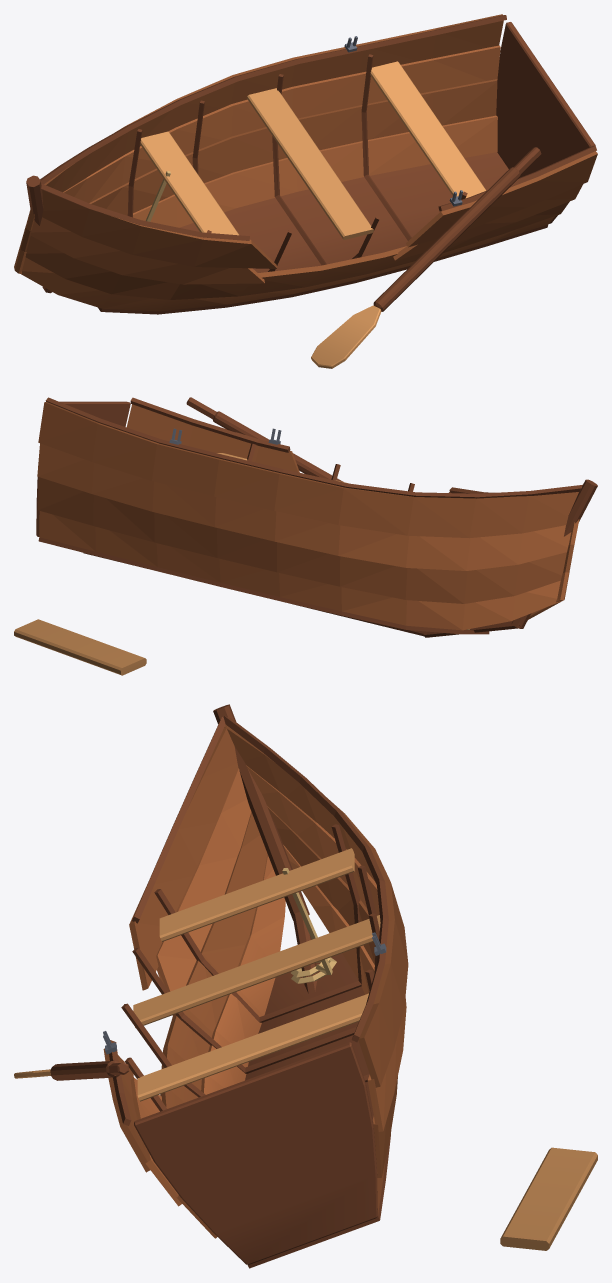
Rendered from rowboat.fbx.
3 views of the same model, one above another, from view 1: azimuth 30°, elevation 25°; view 2: azimuth 150°, elevation 25°; view 3: azimuth 270°, elevation 25° (orthographic). The views are drawn at different scales.
Parts seen in each view (by area): view 1: rowboat_Hull, rowboat_Timber, rowboat_Thwarts, rowboat_Oar, rowboat_OarBlade; view 2: rowboat_Hull, rowboat_Timber, rowboat_Thwarts, rowboat_Oar; view 3: rowboat_Timber, rowboat_Hull, rowboat_Thwarts, rowboat_Oar, rowboat_Rope.
Boxes of the visible parts, box(x1,y1,x2,y2) form: rowboat_Hull: box(14, 14, 597, 311); rowboat_Timber: box(26, 15, 596, 314); rowboat_Thwarts: box(140, 61, 486, 239); rowboat_Oar: box(373, 147, 541, 311); rowboat_OarBlade: box(311, 305, 381, 368); rowboat_Hull: box(37, 402, 580, 630); rowboat_Timber: box(36, 397, 597, 637); rowboat_Thwarts: box(14, 453, 347, 675); rowboat_Oar: box(186, 397, 343, 481); rowboat_Timber: box(109, 704, 391, 1268); rowboat_Hull: box(103, 724, 408, 1238); rowboat_Thwarts: box(133, 848, 597, 1250); rowboat_Oar: box(50, 1060, 129, 1080); rowboat_Rope: box(282, 868, 336, 983).
Bounding box in the file's own units: 14.09 × 4.95 × 10.43.
